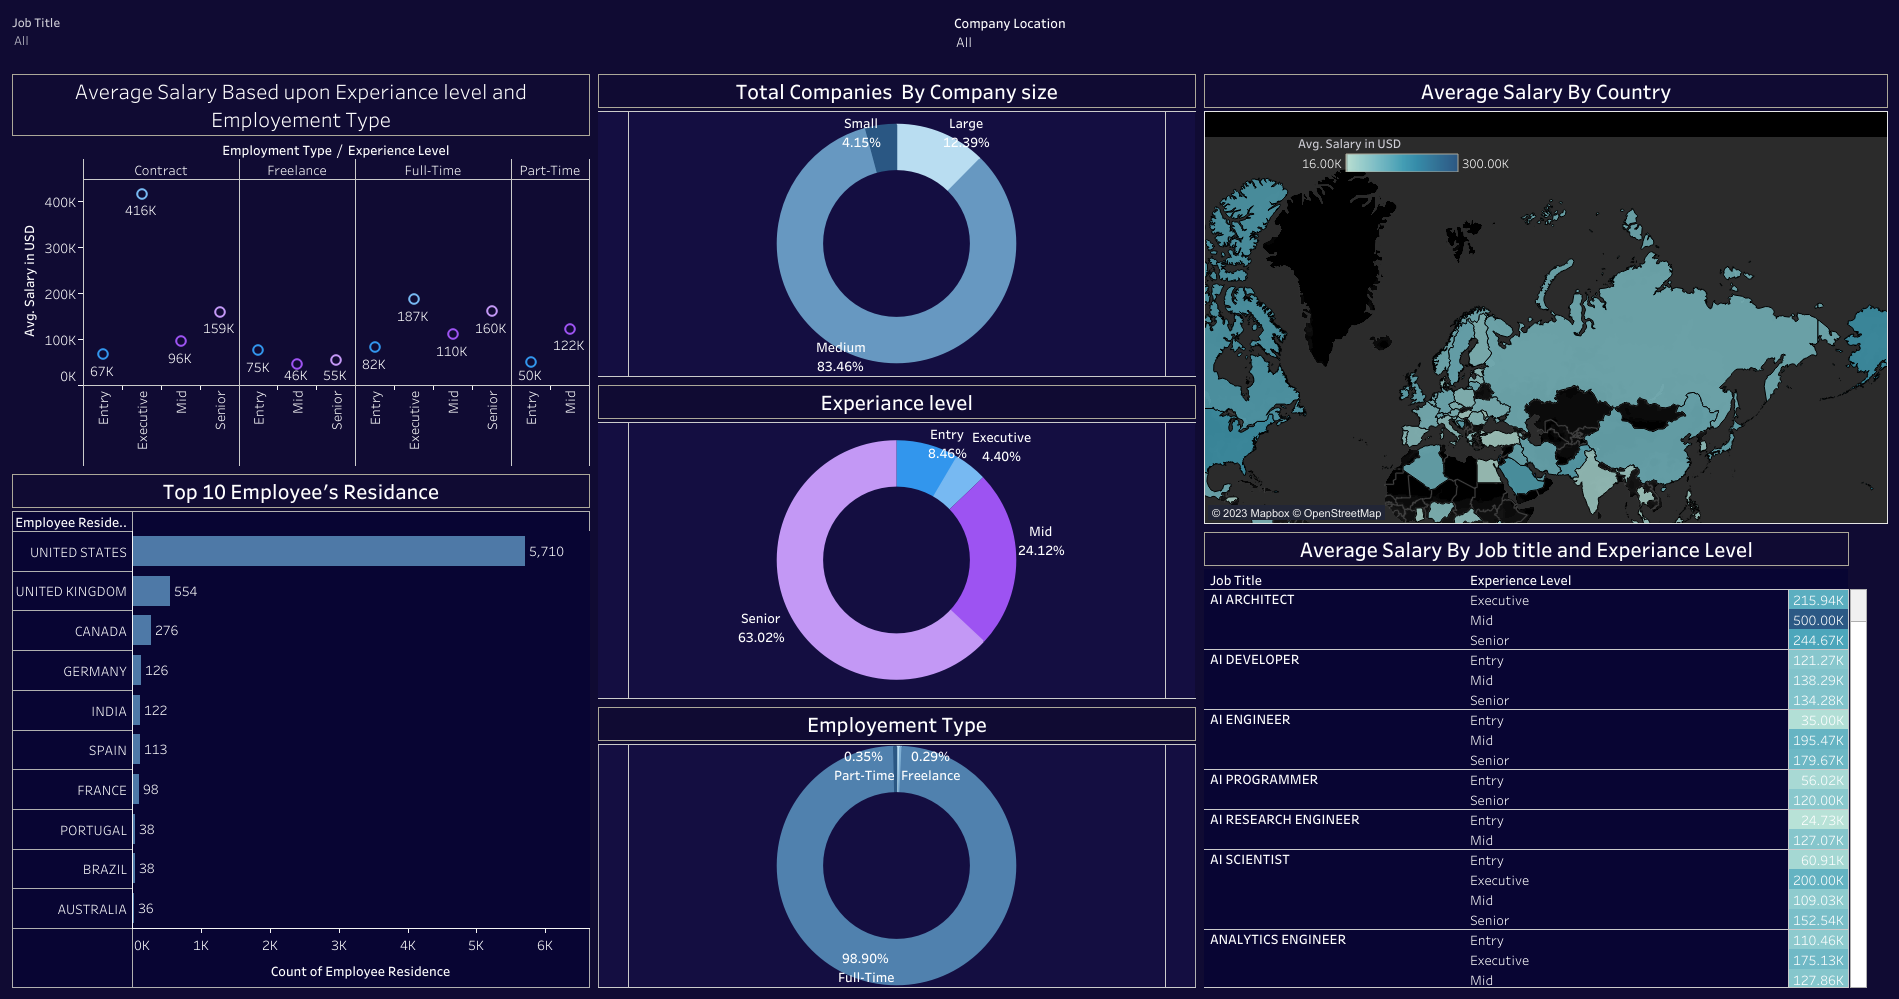

Layout of this report page (visuals, bound fields, positions):
{"tool":"tableau","page":{"name":"Dashboard 1","canvas":[1900,1000],"ordinal":0},"visuals":[{"type":"filter","title":"Average Salary By Country","param":"[federated.1gnxuqs1gwxj92152wpoj05egdf9].[none:Job Title:nk]","box":[8,8,942,62.3]},{"type":"filter","title":"Average Salary By Job title and Experiance Level","param":"[federated.1gnxuqs1gwxj92152wpoj05egdf9].[none:Company Location:nk]","box":[950,8,942,62.3]},{"type":"worksheet","title":"Salary Based upon Experiance level and Employement Type","mark":"Shape","rows":["Salary in USD"],"cols":["Employment Type","Experience Level"],"box":[8,70.3,585.9,399.8]},{"type":"worksheet","title":"Total Companies  By Company size","mark":"Pie","rows":["Calculation_531143289591087105","Calculation_531143289591156739"],"box":[593.9,70.3,605.9,310.8]},{"type":"worksheet","title":"Average Salary By Country","mark":"Automatic","box":[1199.7,70.3,692.3,457.8]},{"type":"legend","title":"Average Salary By Country","param":"[federated.1gnxuqs1gwxj92152wpoj05egdf9].[avg:Salary in USD:qk]","box":[1298.3,130,216.2,41.7]},{"type":"worksheet","title":"Experiance level","mark":"Pie","rows":["Calculation_531143289591087105","Calculation_531143289591156739"],"box":[593.9,381.1,605.9,322.2]},{"type":"worksheet","title":"Top 10 Employee's Residance","mark":"Automatic","rows":["Employee Residence"],"cols":["Employee Residence"],"box":[8,470.1,585.9,521.9]},{"type":"worksheet","title":"Average Salary By Job title and Experiance Level","mark":"Square","rows":["Job Title","Experience Level"],"box":[1199.7,528.1,692.3,463.9]},{"type":"worksheet","title":"Employement Type","mark":"Pie","rows":["Calculation_531143289591087105","Calculation_531143289591156739"],"box":[593.9,703.3,605.9,288.7]}]}

Visuals, with their boxes in screenshot pixels (x1, y1, x2, y2), scaled from the page's 1900x1000 canvas onto the 1899x999 screenshot:
"Average Salary By Country" filter: (left=8, top=8, right=950, bottom=70)
"Average Salary By Job title and Experiance Level" filter: (left=950, top=8, right=1891, bottom=70)
"Salary Based upon Experiance level and Employement Type" worksheet (Shape marks): (left=8, top=70, right=594, bottom=470)
"Total Companies  By Company size" worksheet (Pie marks): (left=594, top=70, right=1199, bottom=381)
"Average Salary By Country" worksheet: (left=1199, top=70, right=1891, bottom=528)
"Average Salary By Country" legend: (left=1298, top=130, right=1514, bottom=172)
"Experiance level" worksheet (Pie marks): (left=594, top=381, right=1199, bottom=703)
"Top 10 Employee's Residance" worksheet: (left=8, top=470, right=594, bottom=991)
"Average Salary By Job title and Experiance Level" worksheet (Square marks): (left=1199, top=528, right=1891, bottom=991)
"Employement Type" worksheet (Pie marks): (left=594, top=703, right=1199, bottom=991)
